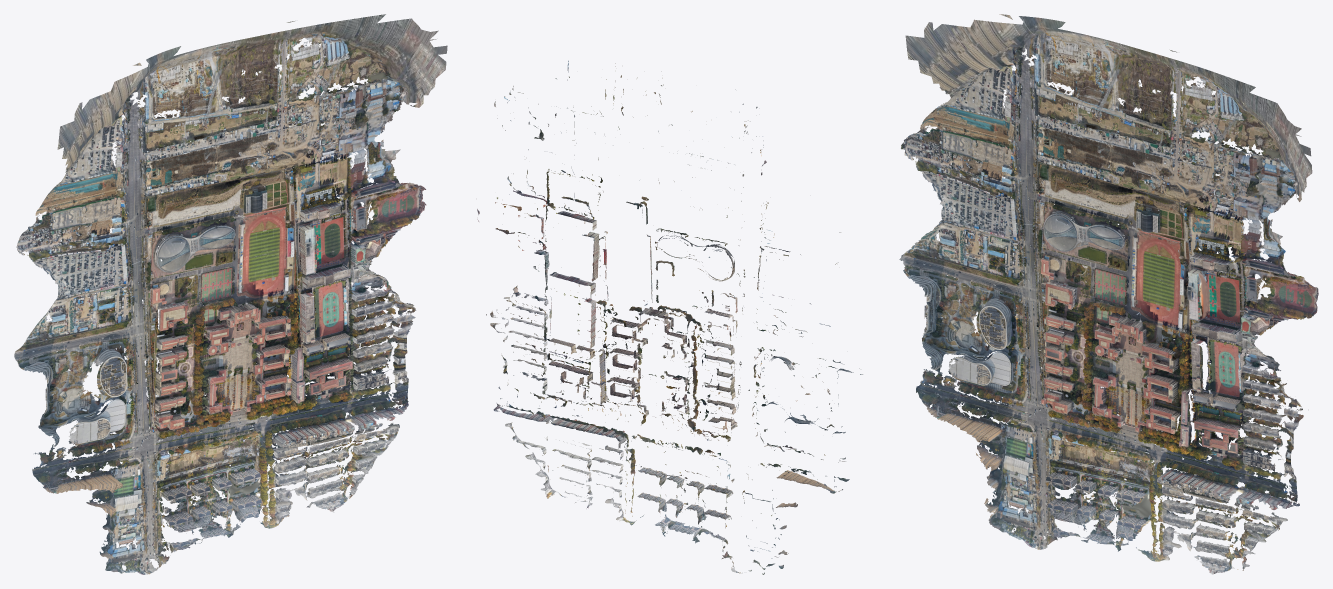
The picture shows the model from 3 angles, left to right: view 1: azimuth 30°, elevation 25°; view 2: azimuth 150°, elevation 25°; view 3: azimuth 330°, elevation 25°; orthographic projection. The views are drawn at different scales.
Size of the model in its own units: 965 by 1157 by 97.82.
79 materials, 79 textured.
